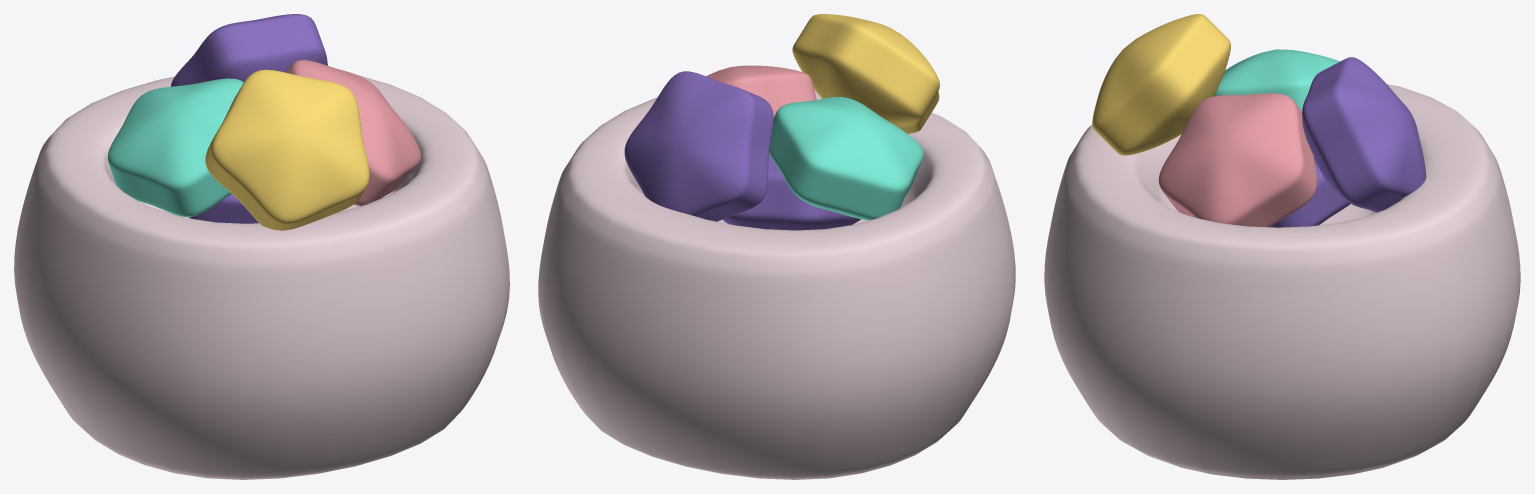
File: paperstarsbowl.gltf
3 views of the same model, side by side, from view 1: azimuth 30°, elevation 25°; view 2: azimuth 150°, elevation 25°; view 3: azimuth 270°, elevation 25° (orthographic). The views are drawn at different scales.
Parts seen in each view (by area): view 1: window.001; view 2: window.001; view 3: window.001.
Part boxes in pixels (left/top/right/bottom): window.001: left=14, top=14, right=509, bottom=479; window.001: left=538, top=14, right=1015, bottom=479; window.001: left=1044, top=14, right=1520, bottom=479.
Bounding box in the file's own units: 0.1116 × 0.0953 × 0.1116.
